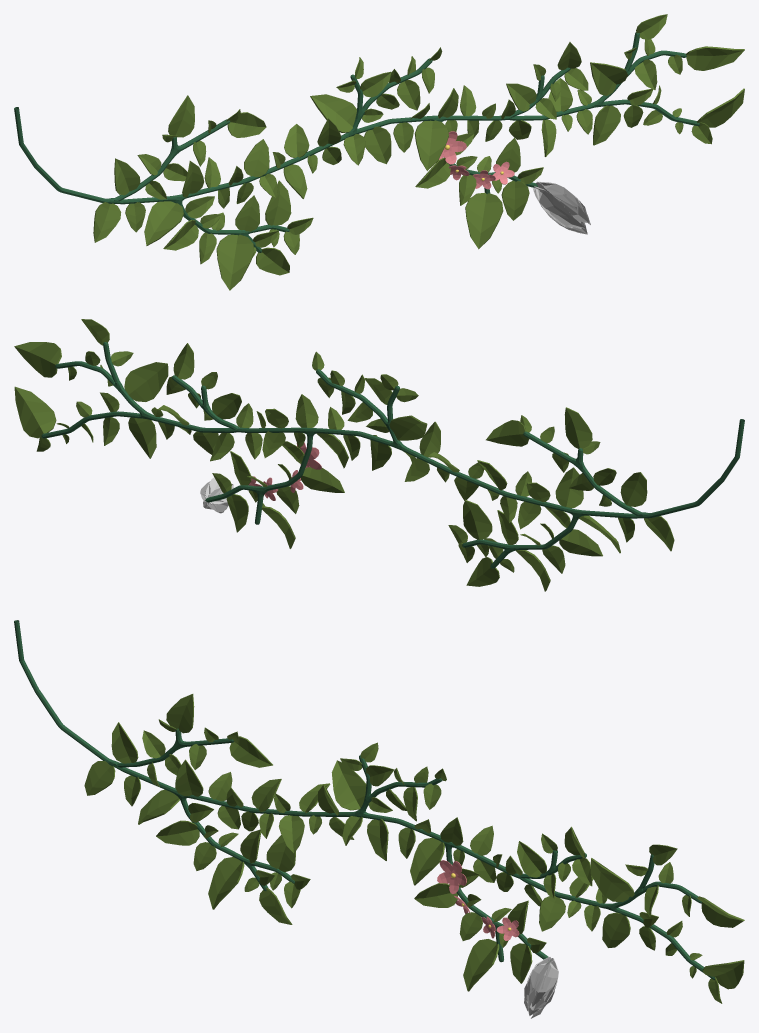
The model's file is fleur jauge biodiversité Anime.fbx.
The picture shows the model from 3 angles, top to bottom: view 1: azimuth 30°, elevation 25°; view 2: azimuth 150°, elevation 25°; view 3: azimuth 330°, elevation 25°; orthographic projection. The views are drawn at different scales.
Parts seen in each view (by area): view 1: Jauge, Lys, Fleur5; view 2: Jauge, Lys; view 3: Jauge, Lys.
Boxes of the visible parts, <box> form: Jauge: <box>14,14,744,290</box>; Lys: <box>533,181,590,234</box>; Fleur5: <box>439,131,466,164</box>; Jauge: <box>14,319,744,591</box>; Lys: <box>200,477,233,513</box>; Jauge: <box>14,620,744,1003</box>; Lys: <box>524,957,558,1018</box>.
Size of the model in its own units: 95.42 by 30.85 by 11.3.
